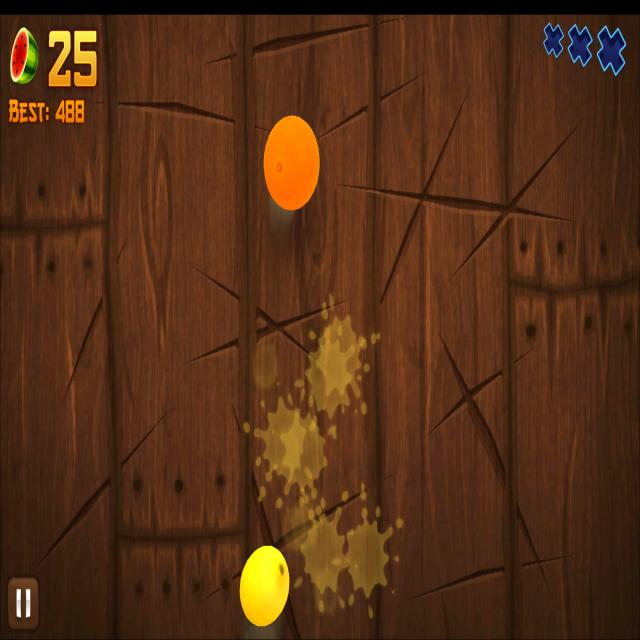fruit: (263, 115, 321, 211), (238, 544, 291, 628)
